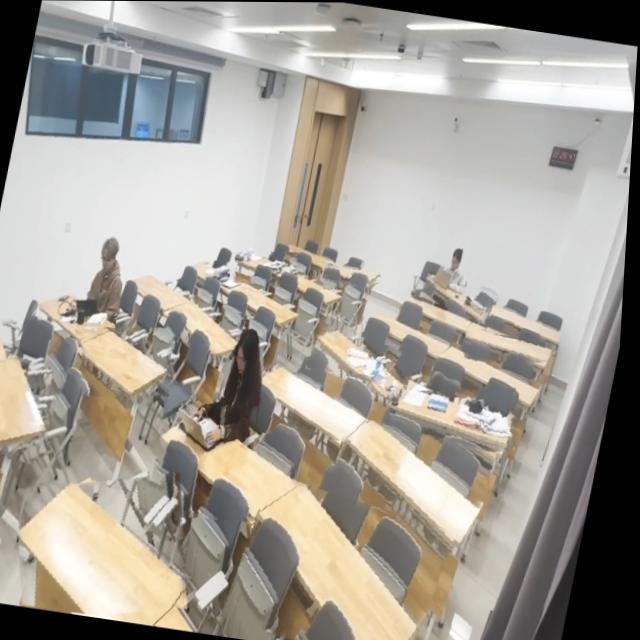Non-empty: (167, 404, 301, 520), (395, 390, 520, 449), (322, 328, 414, 396), (43, 291, 120, 342), (430, 267, 493, 320), (197, 260, 266, 302), (237, 252, 302, 284)
empty: (264, 485, 429, 640), (25, 483, 193, 616), (349, 422, 487, 548), (267, 367, 373, 441), (87, 328, 175, 396), (0, 357, 52, 444), (178, 300, 243, 355), (494, 304, 570, 344), (470, 328, 556, 362), (141, 277, 193, 314), (326, 264, 385, 285), (0, 328, 11, 359)
